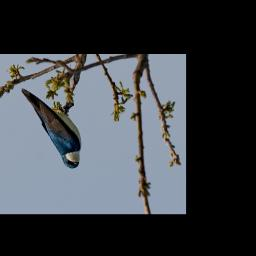Swallow: (18, 87, 85, 172)
